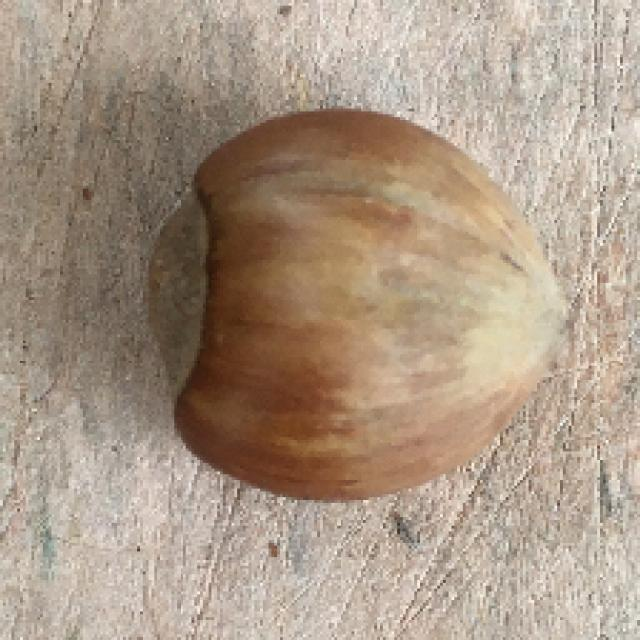damagedHazelnut: (139, 108, 579, 506)
